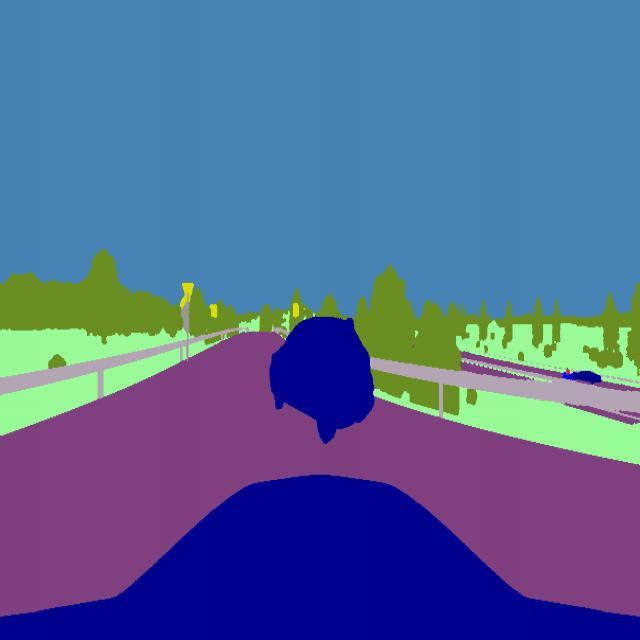safe: (260, 309, 376, 452)
